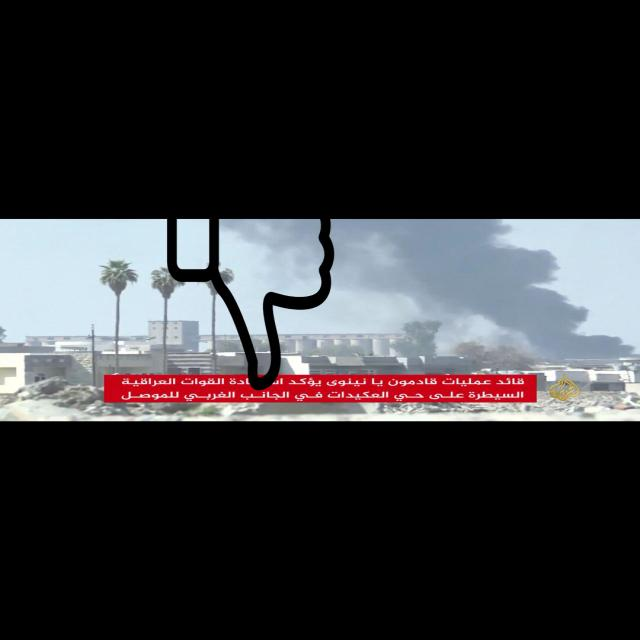obstruction: (165, 164, 336, 390)
